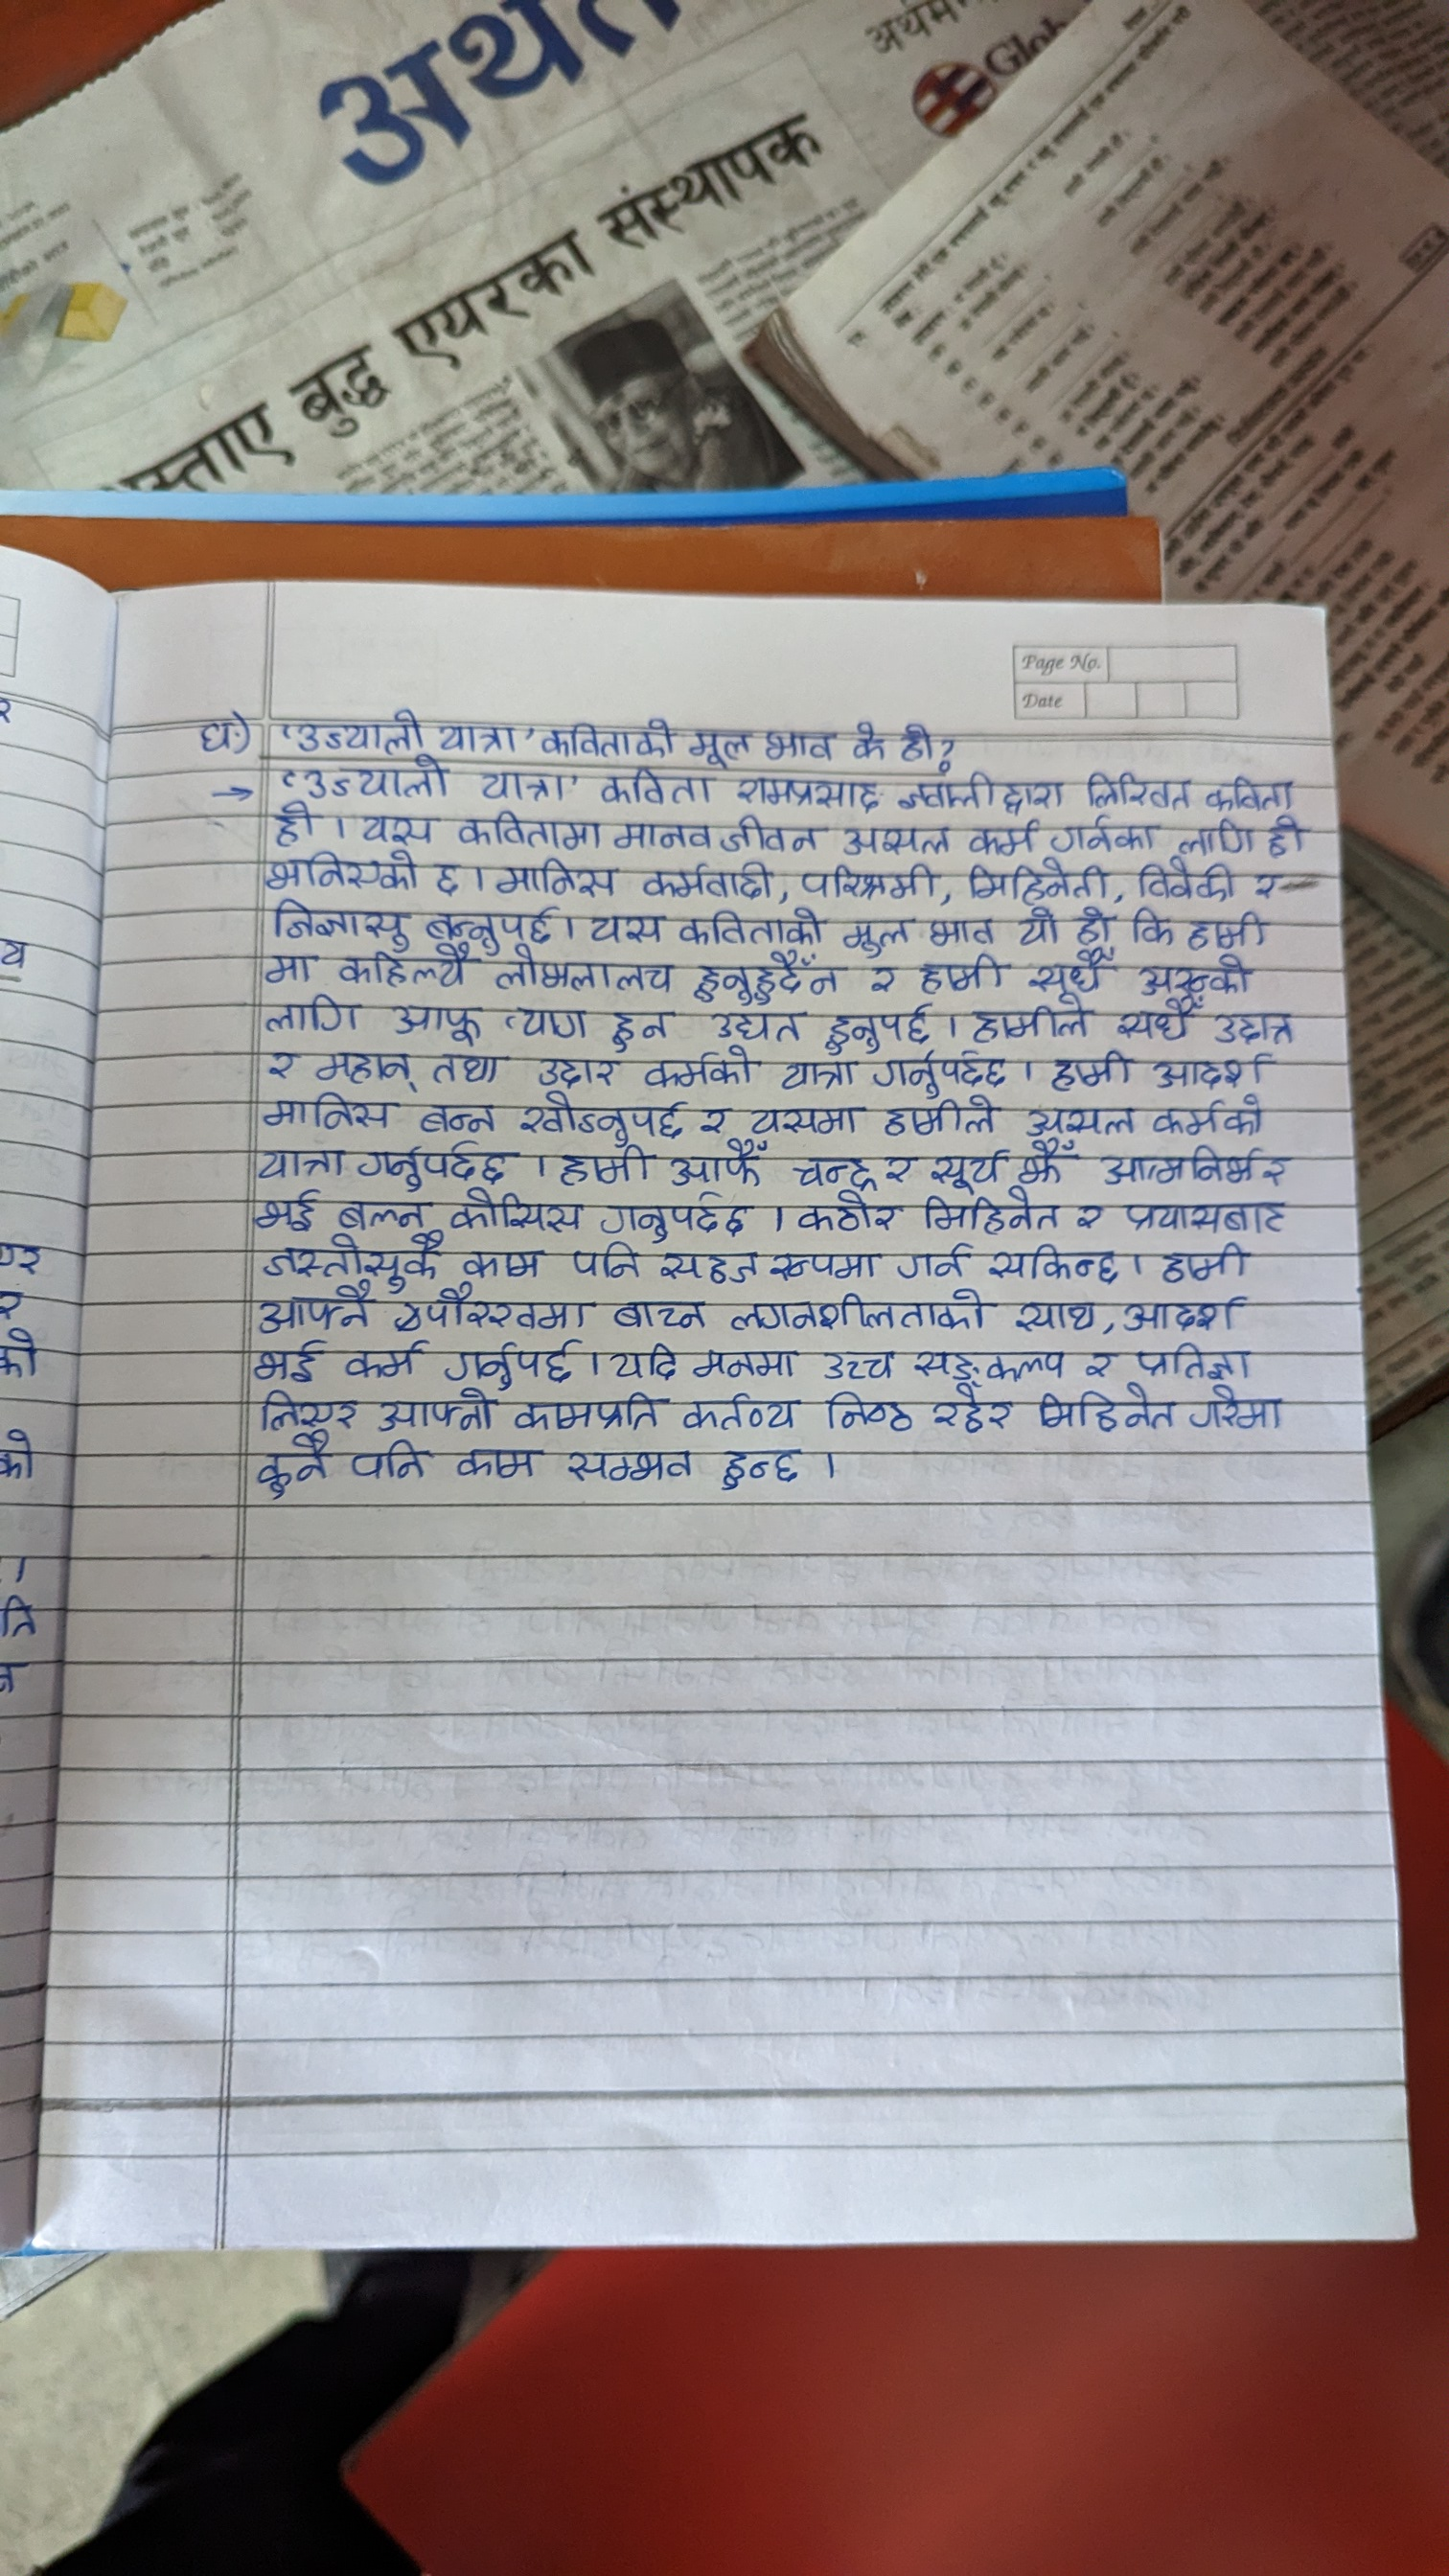text: (729, 1290, 993, 1336), (686, 948, 839, 1008), (1100, 1146, 1290, 1194), (418, 1284, 598, 1332), (258, 1235, 444, 1281), (359, 1138, 525, 1187), (593, 1191, 750, 1240), (902, 1339, 1069, 1385), (893, 770, 1065, 814), (248, 847, 419, 892), (492, 954, 671, 996), (517, 1095, 686, 1139), (1120, 1201, 1299, 1242), (511, 1389, 663, 1437), (262, 899, 410, 947), (1037, 1385, 1175, 1437), (303, 754, 448, 801), (964, 858, 1118, 902), (922, 1189, 1063, 1237), (442, 1336, 579, 1385), (257, 1281, 379, 1336), (370, 1389, 504, 1438), (455, 810, 603, 855), (334, 950, 479, 994), (563, 1444, 695, 1491), (674, 1391, 805, 1438), (968, 996, 1095, 1044), (872, 1053, 1016, 1095), (248, 1430, 331, 1502), (260, 1090, 395, 1134), (1148, 1097, 1281, 1141), (876, 1097, 1008, 1141), (290, 709, 428, 752), (538, 718, 676, 761), (1146, 1053, 1290, 1093), (987, 1240, 1123, 1283), (801, 863, 934, 906), (487, 856, 617, 899), (642, 860, 773, 902), (1120, 1295, 1256, 1336), (922, 1385, 1030, 1437), (681, 909, 830, 947), (419, 904, 568, 941), (449, 1189, 584, 1230), (706, 1444, 816, 1493), (731, 777, 883, 812), (787, 1191, 904, 1237), (1072, 770, 1192, 814), (1134, 1246, 1270, 1284), (1131, 957, 1260, 998), (591, 768, 718, 809), (819, 1010, 947, 1051), (1203, 775, 1329, 816), (663, 1143, 773, 1189), (814, 1389, 916, 1437), (646, 1046, 755, 1090), (1049, 816, 1171, 855), (387, 1000, 485, 1047), (1023, 1051, 1136, 1092), (265, 994, 361, 1042), (350, 1440, 428, 1499), (456, 1442, 534, 1500), (768, 1247, 881, 1286), (1134, 858, 1237, 899), (552, 1145, 655, 1185), (768, 1054, 865, 1097), (747, 1102, 869, 1136), (1021, 1104, 1143, 1138), (842, 819, 952, 856), (1026, 948, 1115, 994), (260, 1143, 349, 1189), (722, 814, 821, 855), (248, 1338, 329, 1387), (343, 1336, 425, 1385), (688, 1350, 807, 1384), (816, 1341, 899, 1389), (610, 1295, 711, 1334), (658, 1247, 757, 1286), (612, 816, 715, 851), (333, 1194, 430, 1231), (918, 952, 1003, 994), (1116, 1000, 1205, 1040), (600, 1341, 681, 1385), (846, 909, 916, 959), (1212, 1007, 1297, 1047), (474, 766, 563, 805), (782, 1154, 879, 1189), (1185, 911, 1269, 952), (1177, 817, 1263, 856), (525, 1054, 625, 1088), (435, 715, 524, 752), (893, 1242, 970, 1284), (504, 1003, 591, 1040), (1134, 1339, 1208, 1382), (1014, 1297, 1099, 1334), (709, 1008, 803, 1042), (414, 1100, 502, 1136), (425, 1051, 513, 1086), (763, 725, 839, 766), (568, 1240, 646, 1279), (605, 1003, 676, 1046), (464, 1246, 548, 1281), (927, 1152, 1010, 1187), (966, 817, 1040, 856), (589, 911, 663, 950), (359, 807, 432, 846), (924, 913, 998, 950), (255, 1191, 322, 1231), (1017, 1139, 1074, 1185), (690, 727, 752, 764), (260, 1049, 311, 1086), (1131, 906, 1177, 947), (1070, 904, 1116, 945), (1016, 906, 1062, 947), (265, 952, 313, 991), (860, 959, 908, 998), (191, 715, 234, 755), (272, 801, 315, 842), (847, 722, 890, 763), (897, 722, 938, 763), (1249, 867, 1292, 906), (690, 1102, 734, 1139), (428, 860, 469, 899), (1269, 817, 1309, 856), (1069, 1201, 1113, 1237), (1076, 1346, 1120, 1382)
